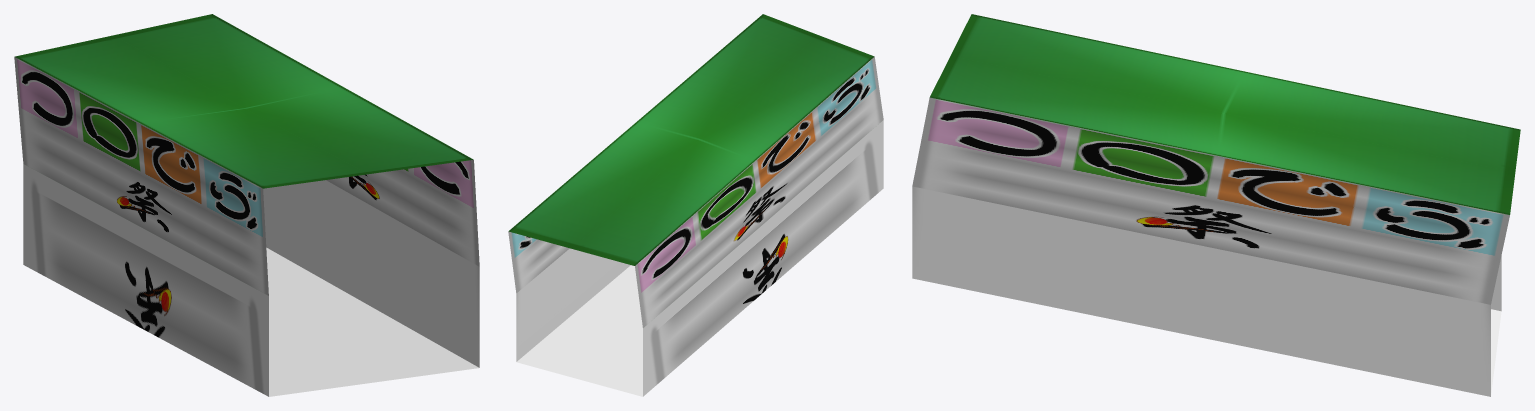
File: CourseAki_Wall_R_4_10.fbx
3 renders of one model, left to right at view 1: azimuth 30°, elevation 25°; view 2: azimuth 150°, elevation 25°; view 3: azimuth 270°, elevation 25°, orthographic. The views are drawn at different scales.
Visible parts, largest first — view 1: polySurface324; view 2: polySurface324; view 3: polySurface324.
Boxes of the visible parts, <box> form: polySurface324: <box>14,14,479,396</box>; polySurface324: <box>508,14,883,396</box>; polySurface324: <box>912,14,1520,396</box>.
Bounding box in the file's own units: 2.58 × 2.98 × 5.99.
Materials: 1 (1 with a texture image).
